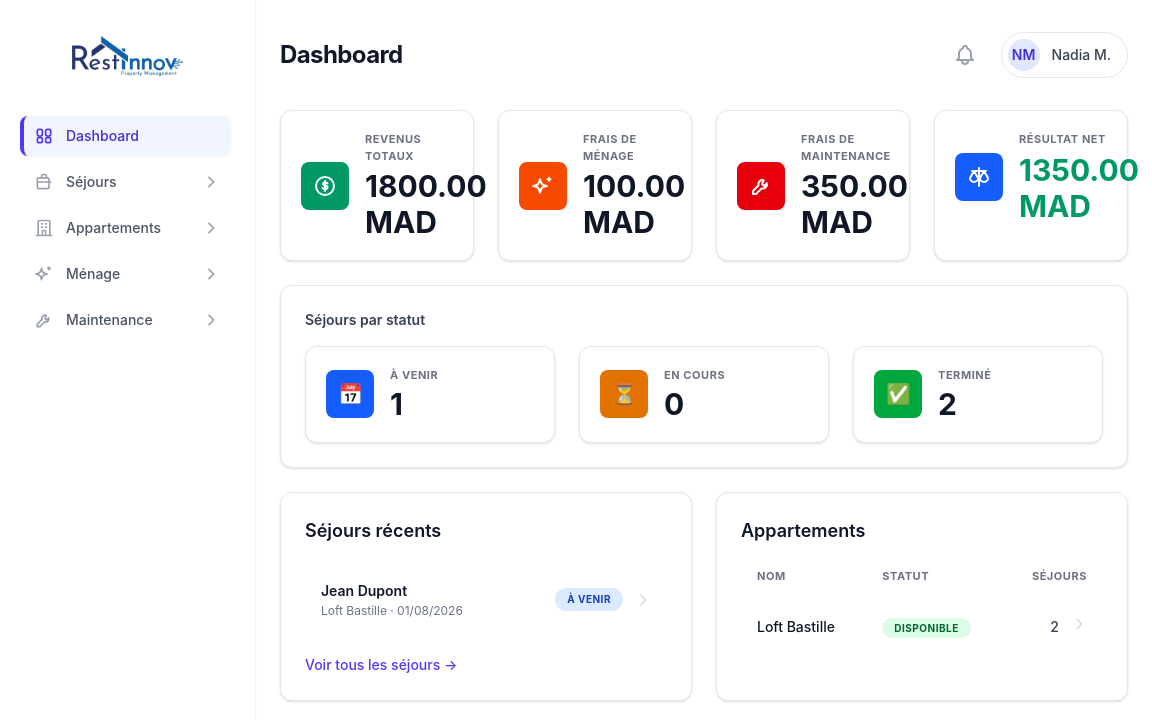
Test case: App › l'entrée surlignée correspond toujours à l'écran affiché : "Créer un appartement" après édition puis clic direct dans le menu
The image size is (1152, 720).
What coordinates should you click on to do the following:
click the button "Appartements"
I would click on:
 (126, 228)
Its box is [20,208,231,248].
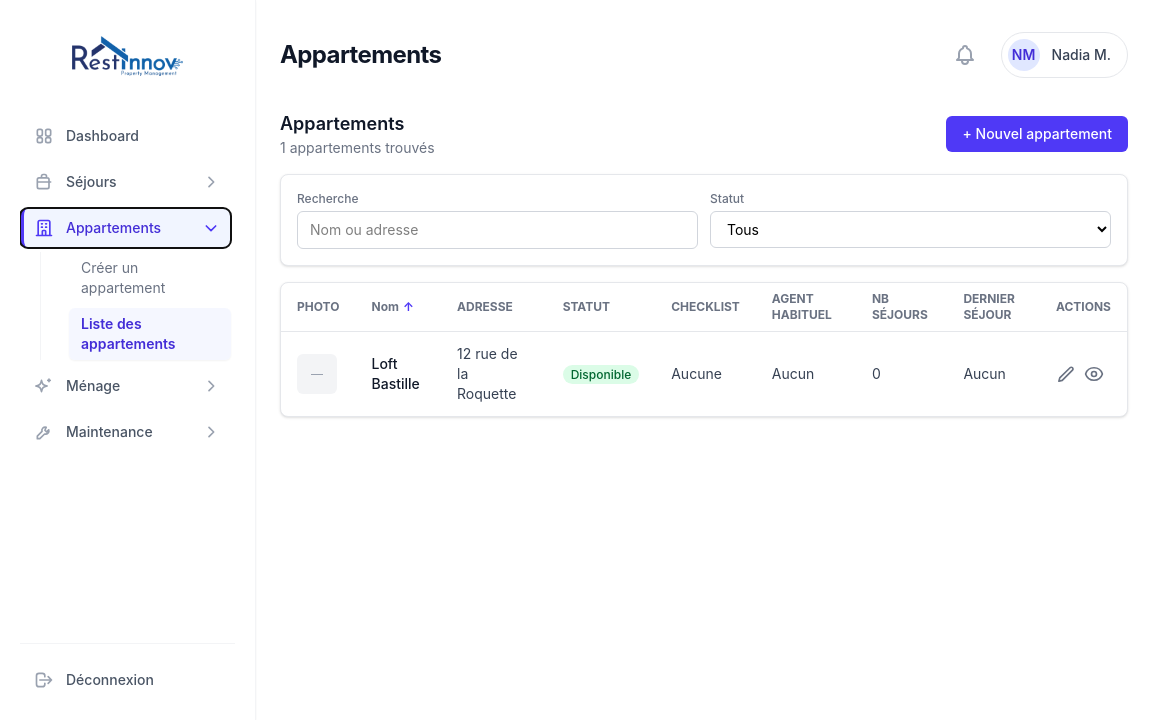
What coordinates should you click on to do the following:
click the button "Liste des appartements"
I would click on:
 (150, 334)
Its box is [69,308,231,360].
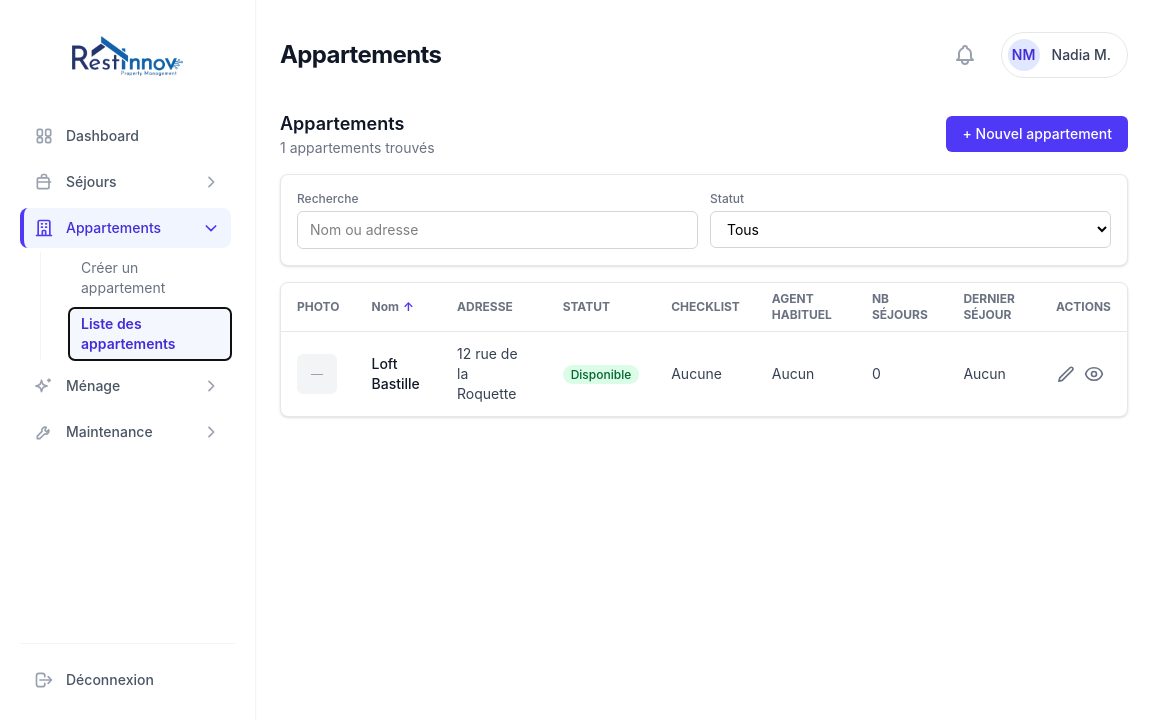
Check: the text "Loft Bastille" is shown, box [356,332,441,416]
What coordinates should you click on to do the following:
click the button named "modifier l'appartement loft bastille"
I would click on:
 (1066, 374)
Its box is [1056,364,1076,384].
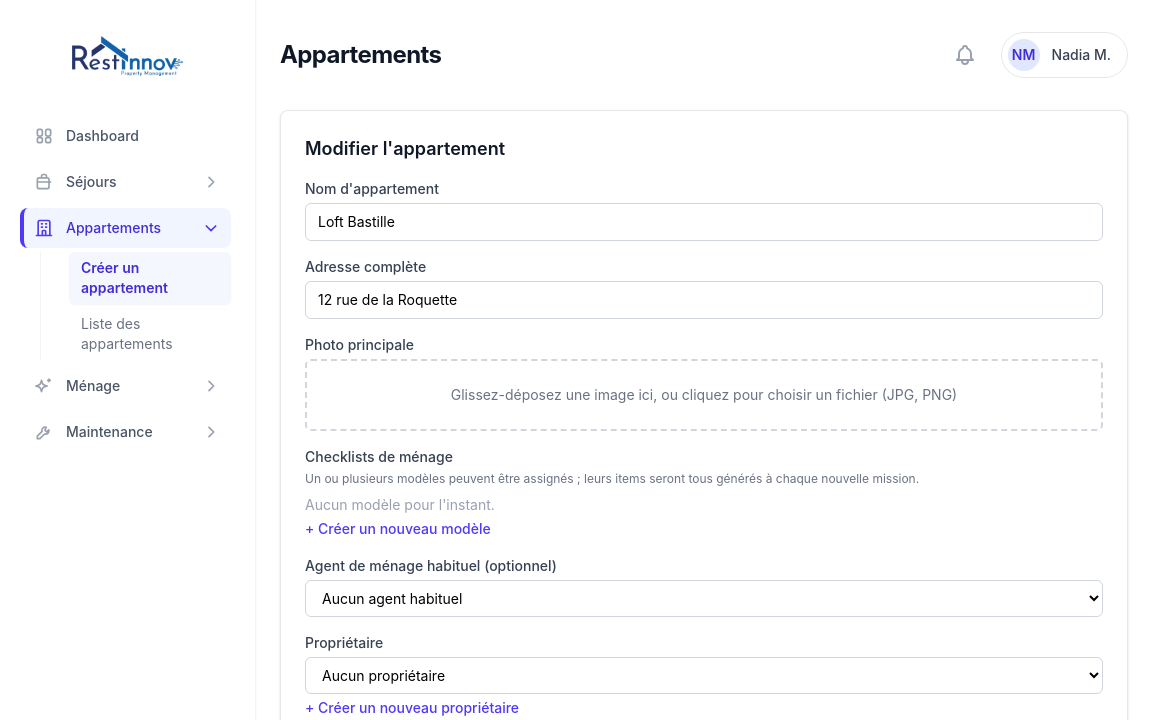
Check: the heading "Modifier l'appartement" is shown, box [305,138,505,159]
What coordinates should you click on to do the following:
click the button "Créer un appartement"
I would click on:
 (150, 278)
Its box is [69,252,231,304].
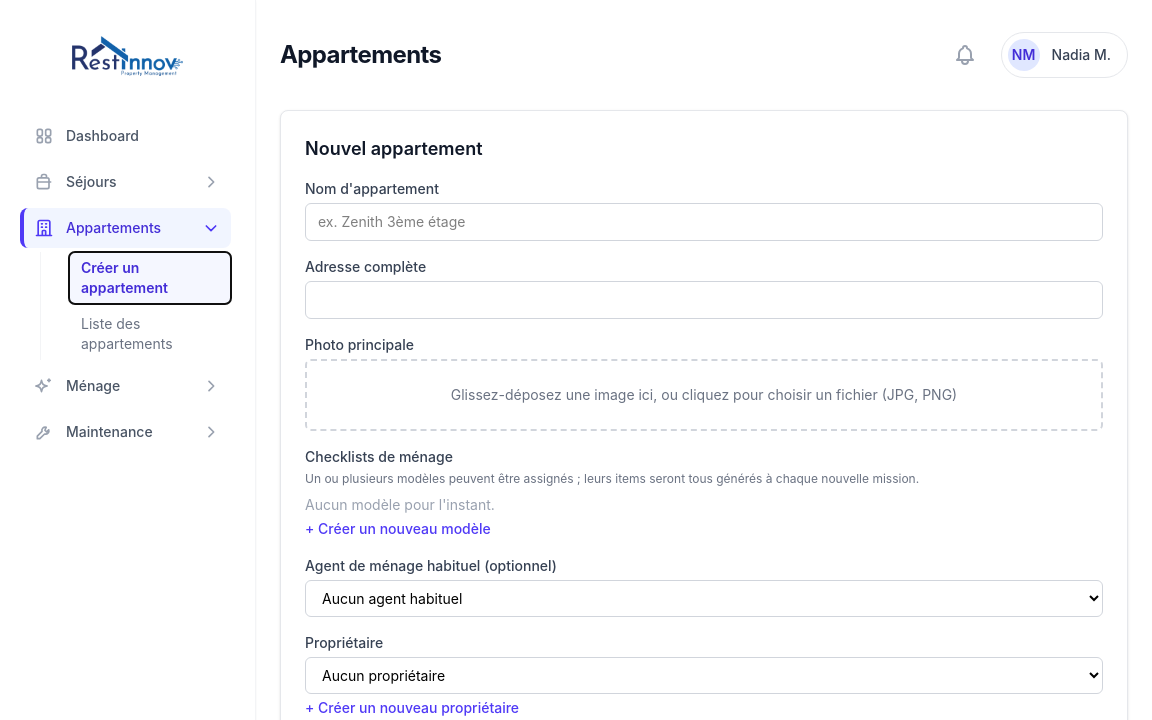
Check: the heading "Nouvel appartement" is shown, box [305,138,483,159]
Check: the field labelled "Nom d'appartement" is empty, box [305,203,1103,241]
